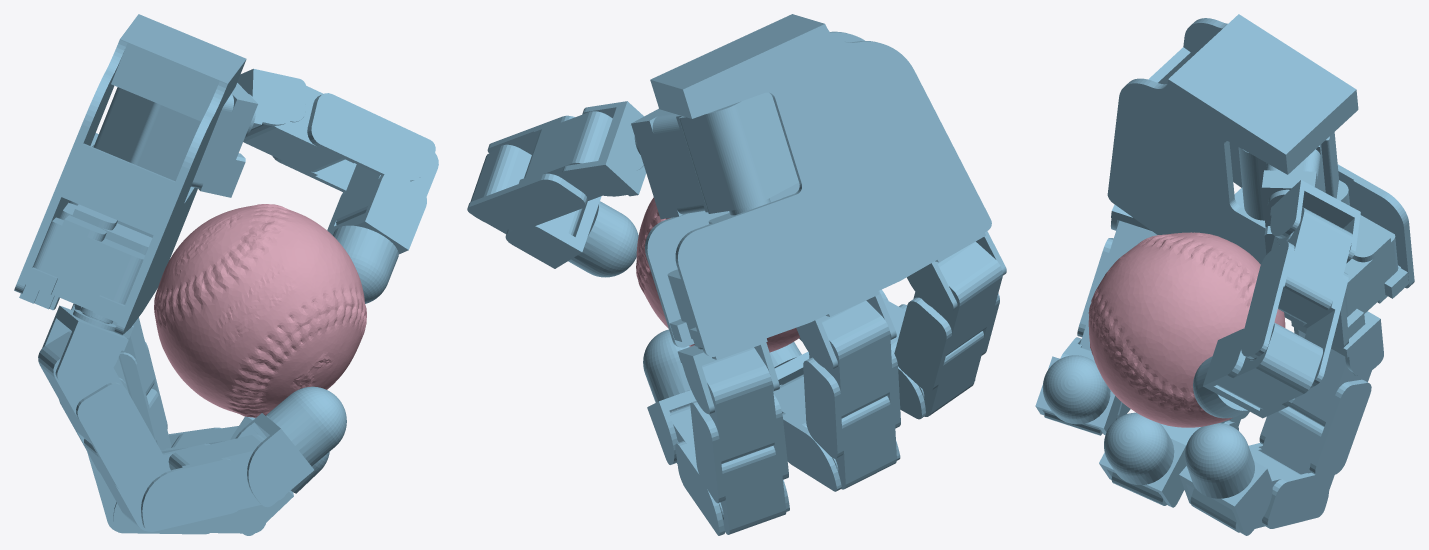
3 views of the same model, side by side, from view 1: azimuth 30°, elevation 25°; view 2: azimuth 150°, elevation 25°; view 3: azimuth 270°, elevation 25° (orthographic). The views are drawn at different scales.
Visible parts, largest first — view 1: world; view 2: world; view 3: world.
Part boxes in pixels (x1=…): world: x1=14, y1=14, x2=438, y2=535; world: x1=467, y1=14, x2=1006, y2=535; world: x1=1035, y1=14, x2=1414, y2=535.
Size of the model in its own units: 0.1877 by 0.1926 by 0.14.
